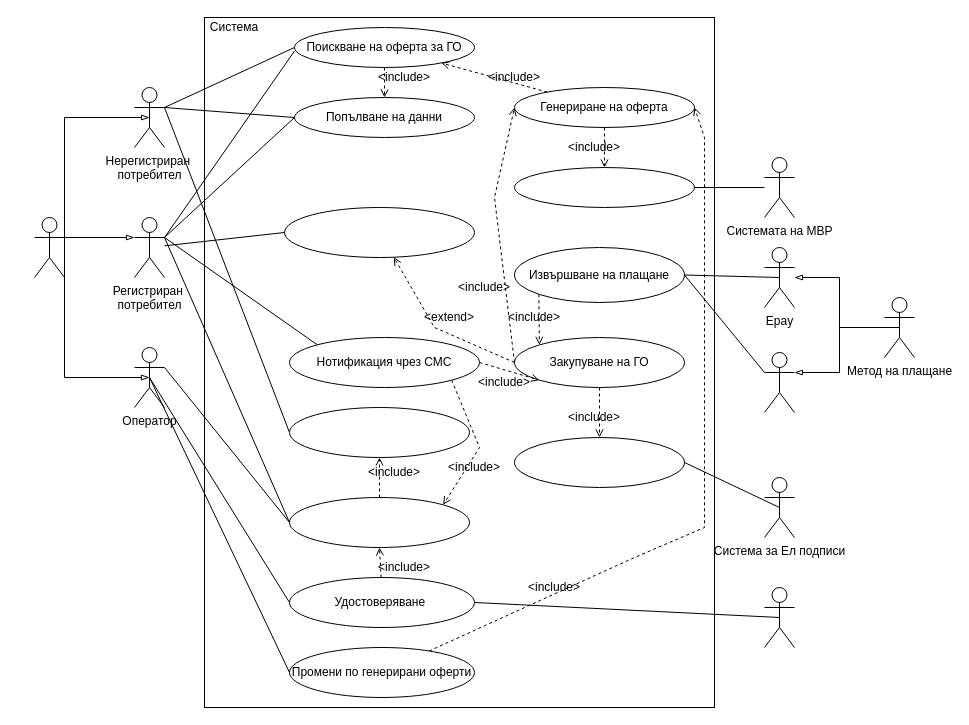
Image size: 969x725. Some labels were removed from this diagram. The centre of each missing label's shape, as x and y in pixels:
"10% отстъпка при три или повече ГО" goes at (379,232).
"Card" goes at (779,382).
"Вписване на потребител" goes at (379,522).
"потребител" goes at (49,247).
"Проверка за Ел подпис" goes at (599,462).
"Регистрация на потребител" goes at (379,432).
"Система за ЗД" goes at (779,617).
"Справка с МВР" goes at (604,187).
